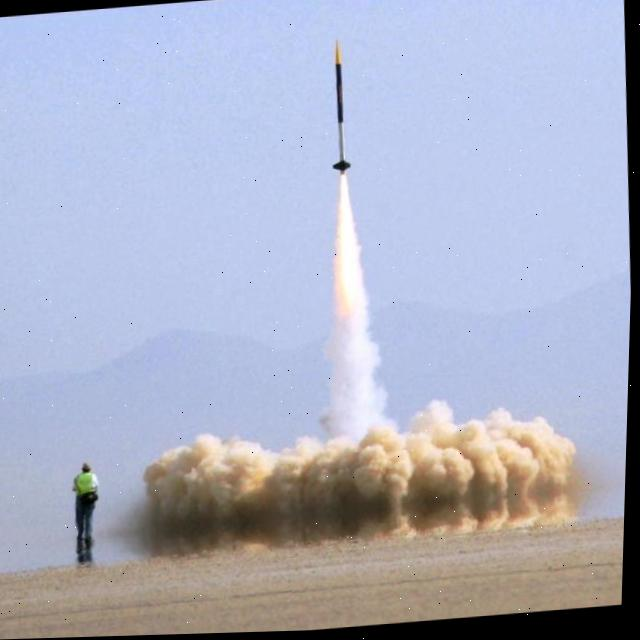missile: (325, 42, 354, 179)
